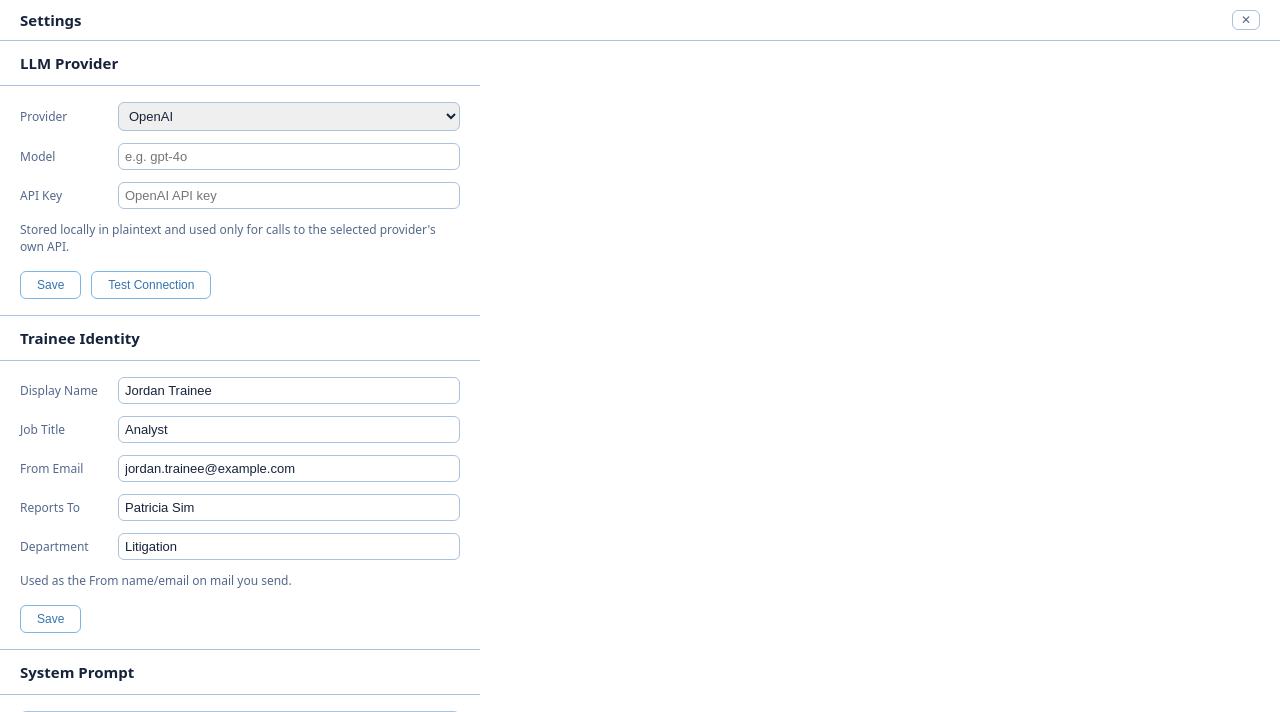
Test: SettingsView › Trainee Identity › shows its own Saved indicator independently of the other sections
Check: the field labelled "Display Name" is shown, box [118,377,460,404]
Click the button "Save" below "Department". click: (51, 619)
box: [20,605,81,633]
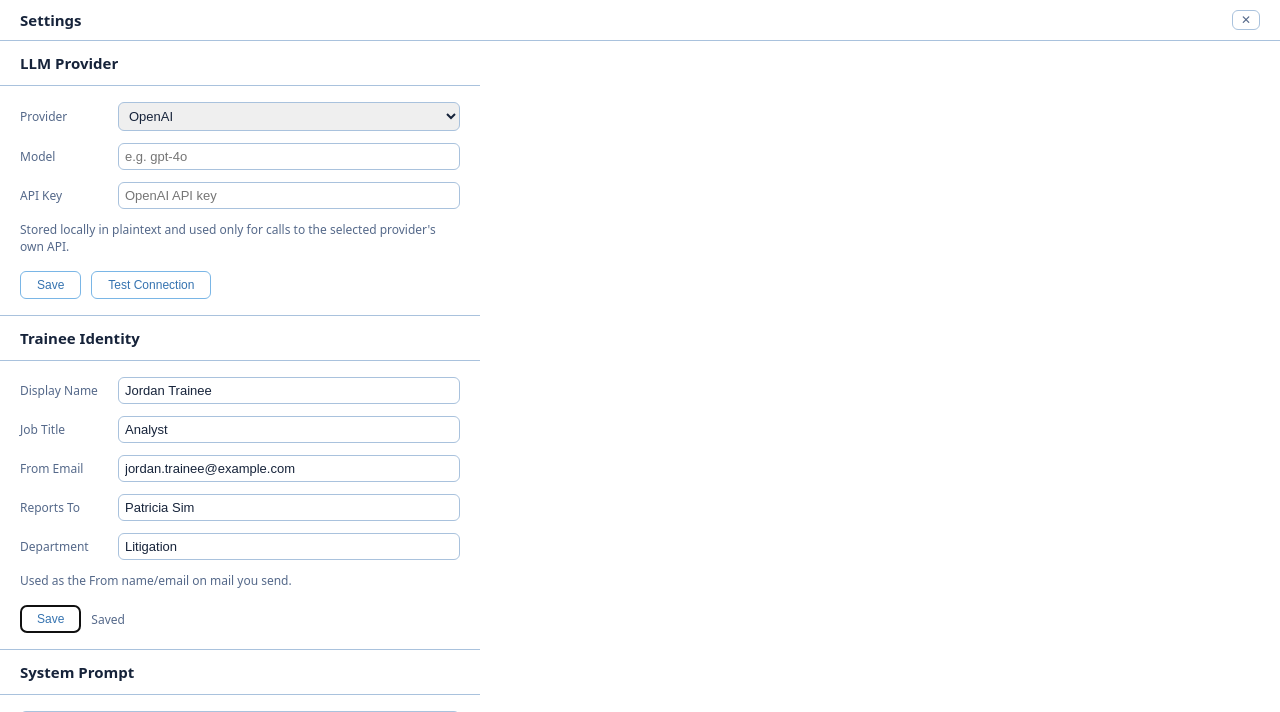
Check: the text "Saved" is shown, box [91,610,125,628]
